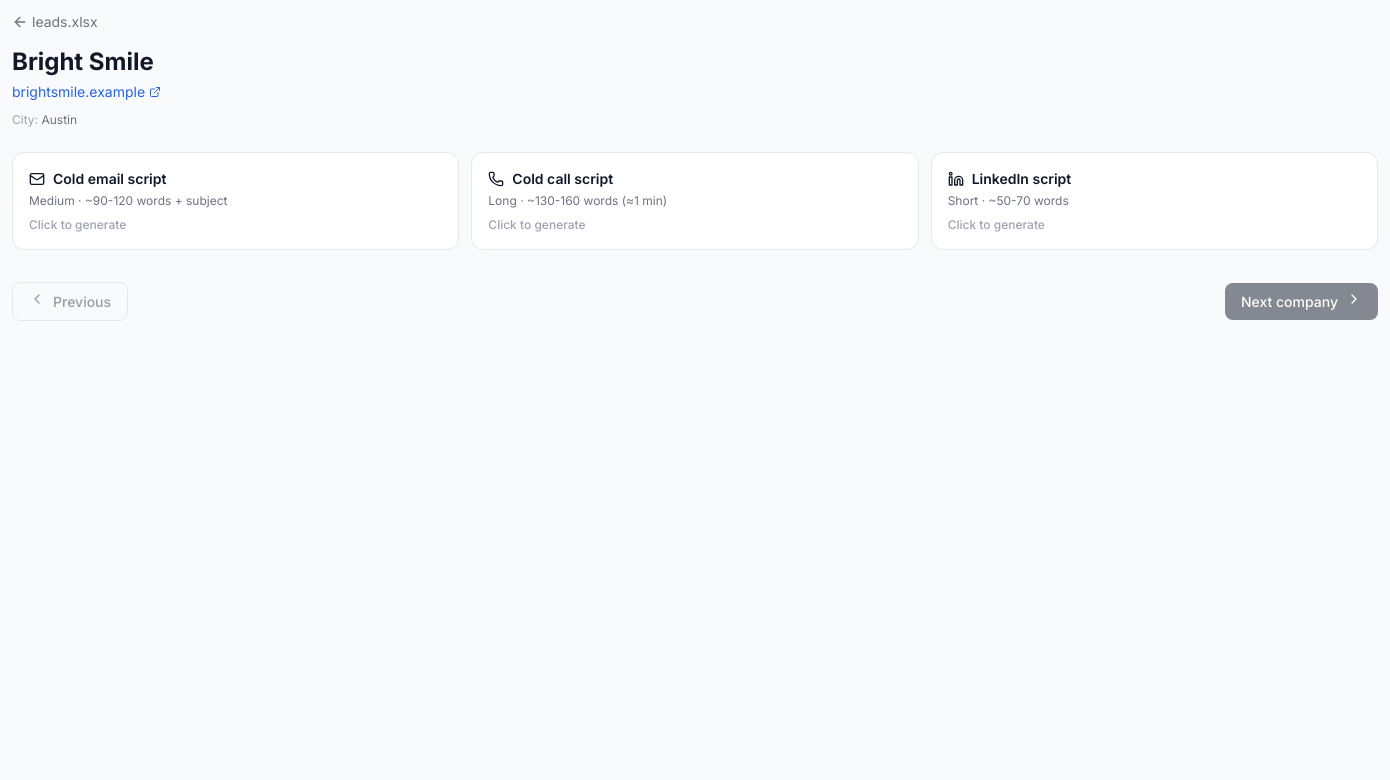
Test case: C — CompanyScripts › generates a script on click and shows it (email with subject)
The image size is (1390, 780).
What coordinates should you click on to do the following:
click the button with test id "generate-cold_email"
I would click on:
 (110, 179)
Its box is x1=12 y1=152 x2=459 y2=250.
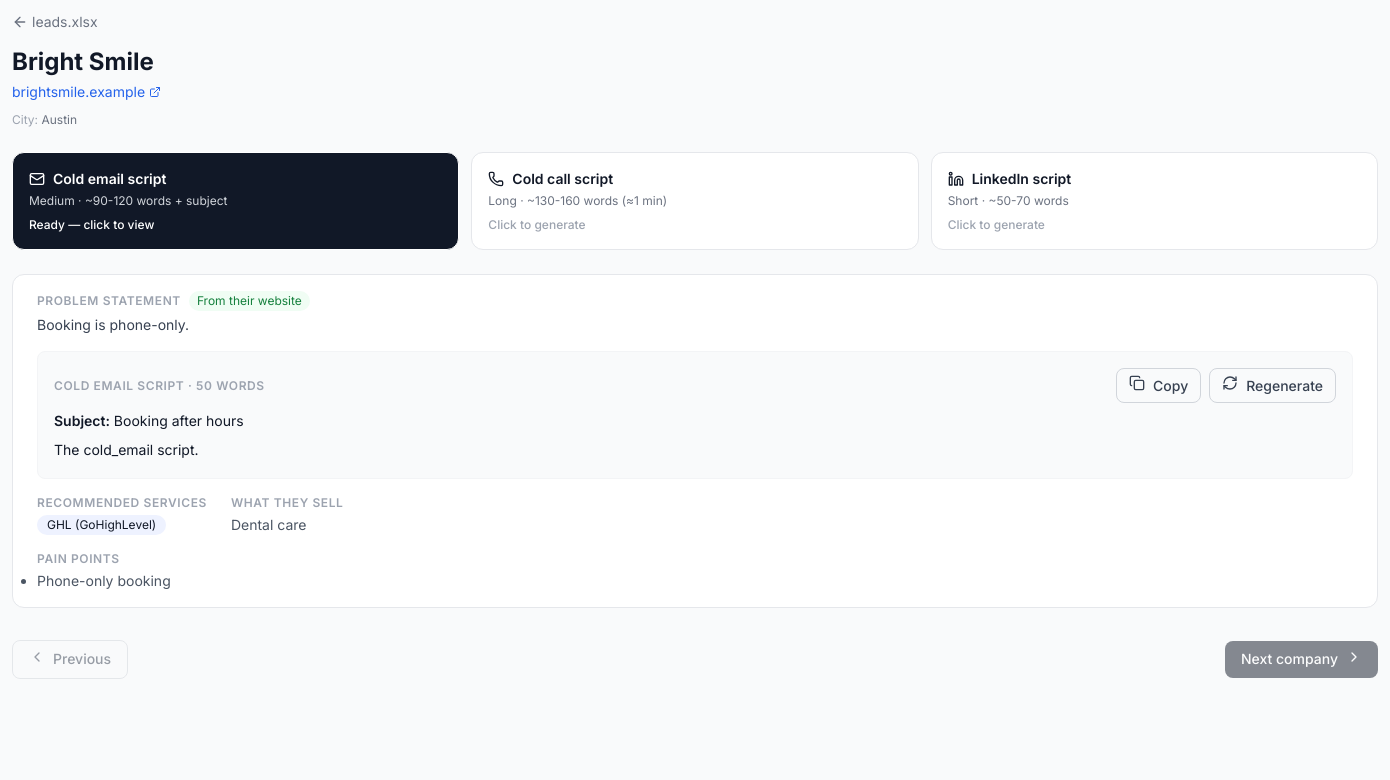
Check: the text with test id "script-text" reads "The cold_email script.", box x1=54 y1=441 x2=198 y2=458
Check: the element with test id "script-subject" shows "Booking after hours", box x1=114 y1=412 x2=244 y2=429
